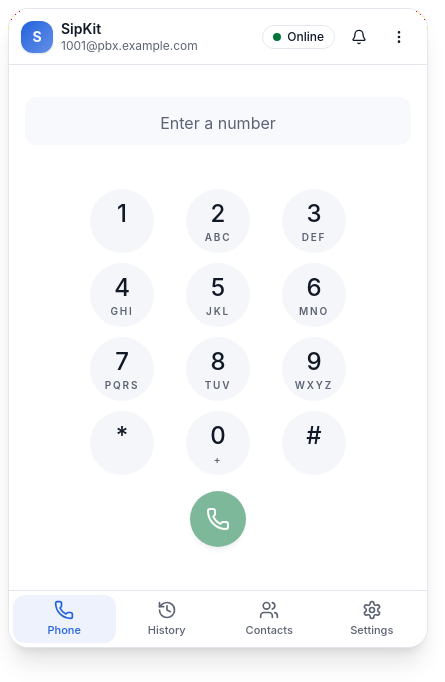
Test: <Softphone /> › long-press 0 inserts +
The width and height of the screenshot is (445, 682).
Press the mouse on the button named "0 (hold for +)" at (218, 442), box [186, 410, 250, 474]
Wait 700 ms
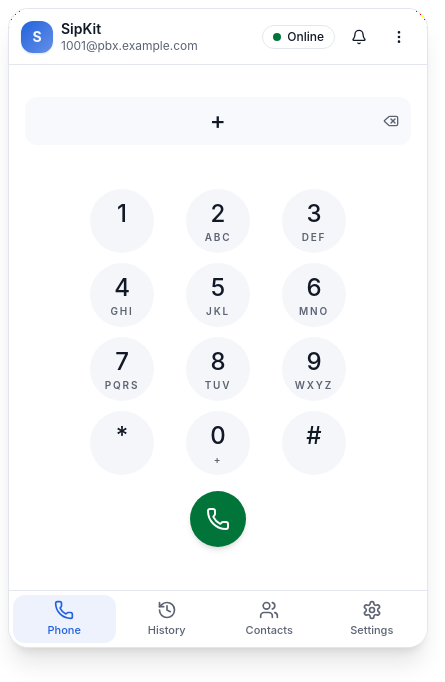
Check: the dropdown named "Number to dial" holds "+", box [25, 96, 411, 144]
